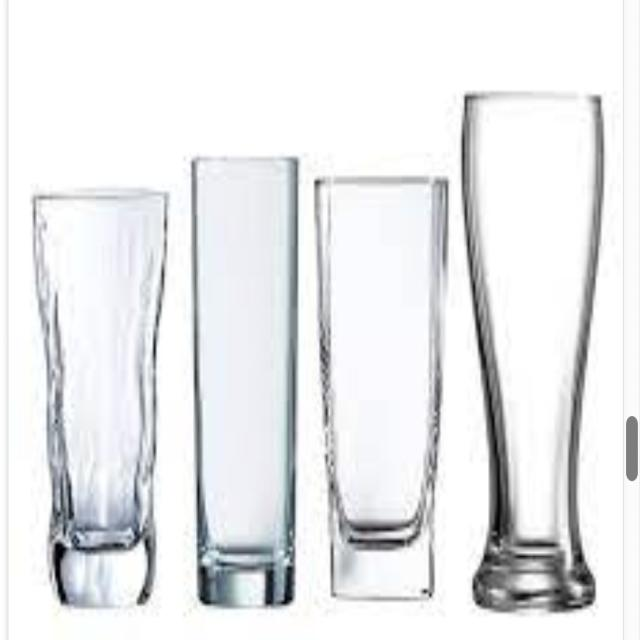recyclable: (449, 64, 609, 618), (304, 147, 457, 607), (24, 173, 177, 631), (172, 135, 310, 614)
